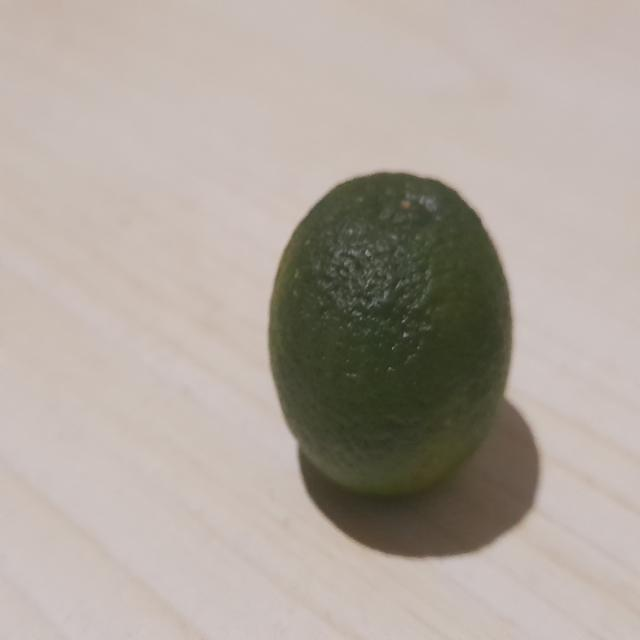heathy: (263, 160, 521, 505)
